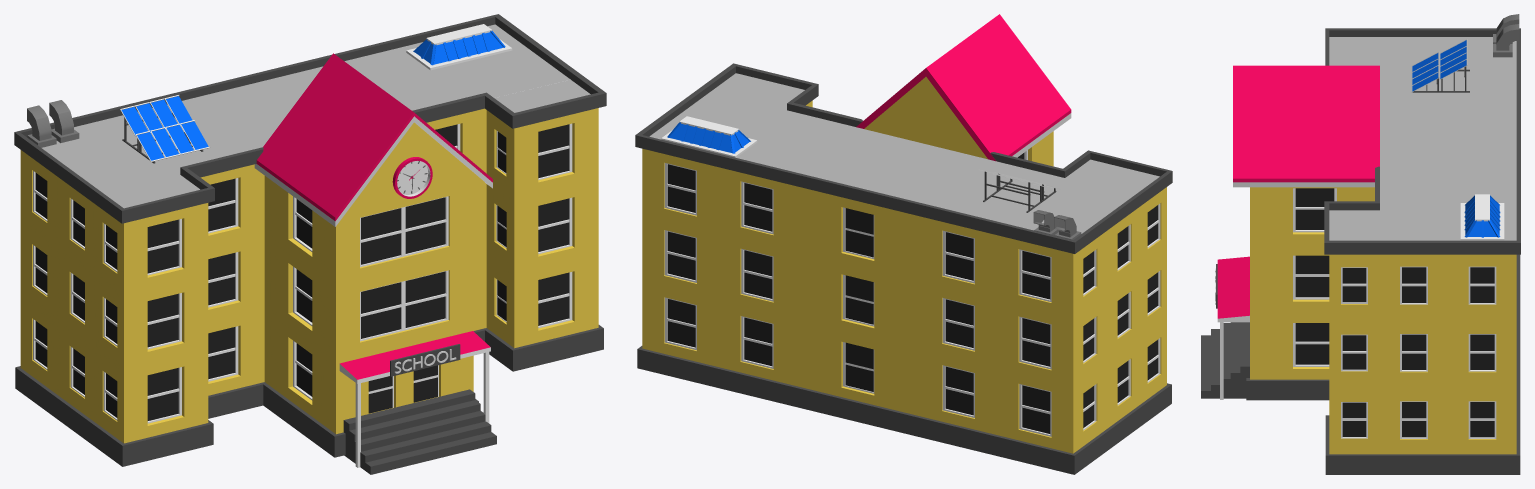
Rendered from School.glb.
3 views of the same model, side by side, from view 1: azimuth 30°, elevation 25°; view 2: azimuth 150°, elevation 25°; view 3: azimuth 270°, elevation 25° (orthographic). The views are drawn at different scales.
Visible parts, largest first — view 1: School; view 2: School; view 3: School.
Part boxes in pixels (x1=…): School: x1=14, y1=14, x2=606, y2=474; School: x1=635, y1=14, x2=1172, y2=474; School: x1=1201, y1=14, x2=1520, y2=474.
Bounding box in the file's own units: 0.8207 × 0.542 × 0.5167.
